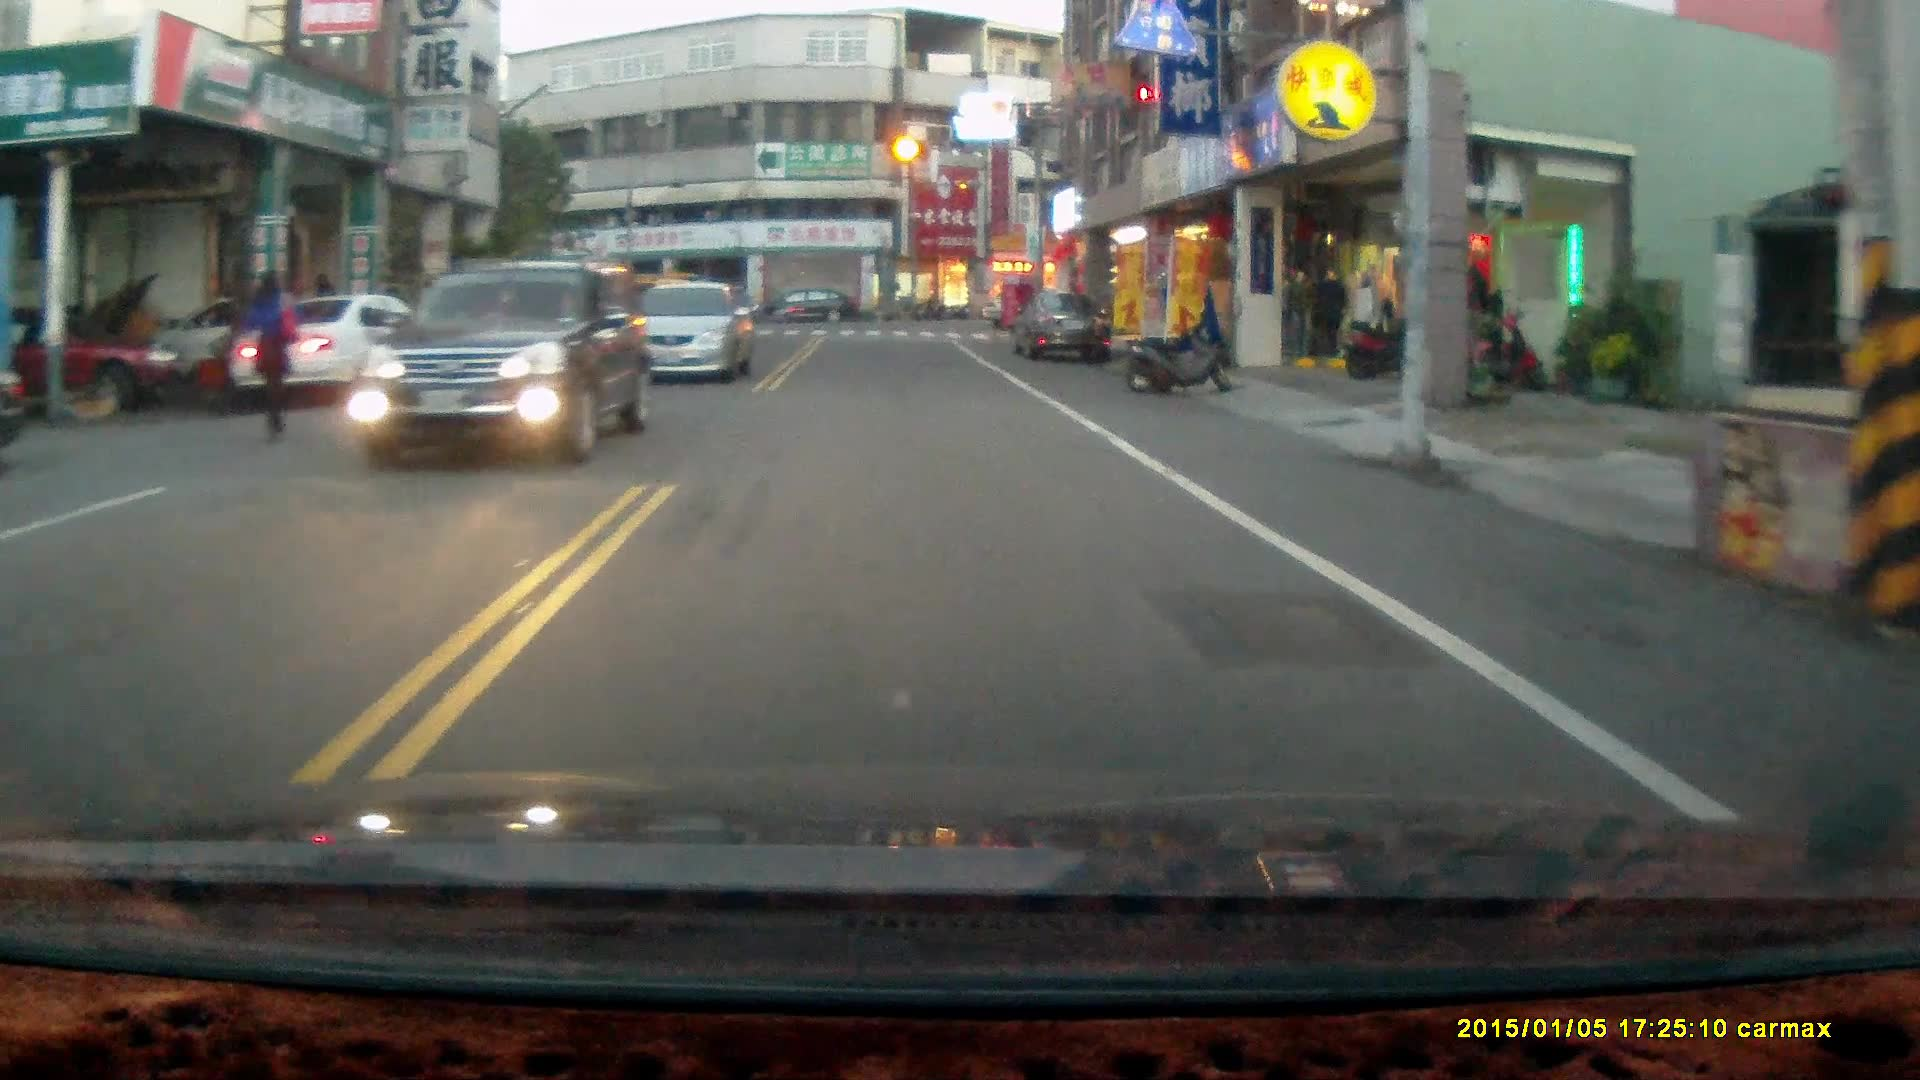pedestrian: (240, 267, 296, 442)
vehicle: (352, 258, 651, 465), (220, 294, 478, 408), (624, 277, 753, 384), (1009, 286, 1110, 370), (757, 284, 860, 329)
